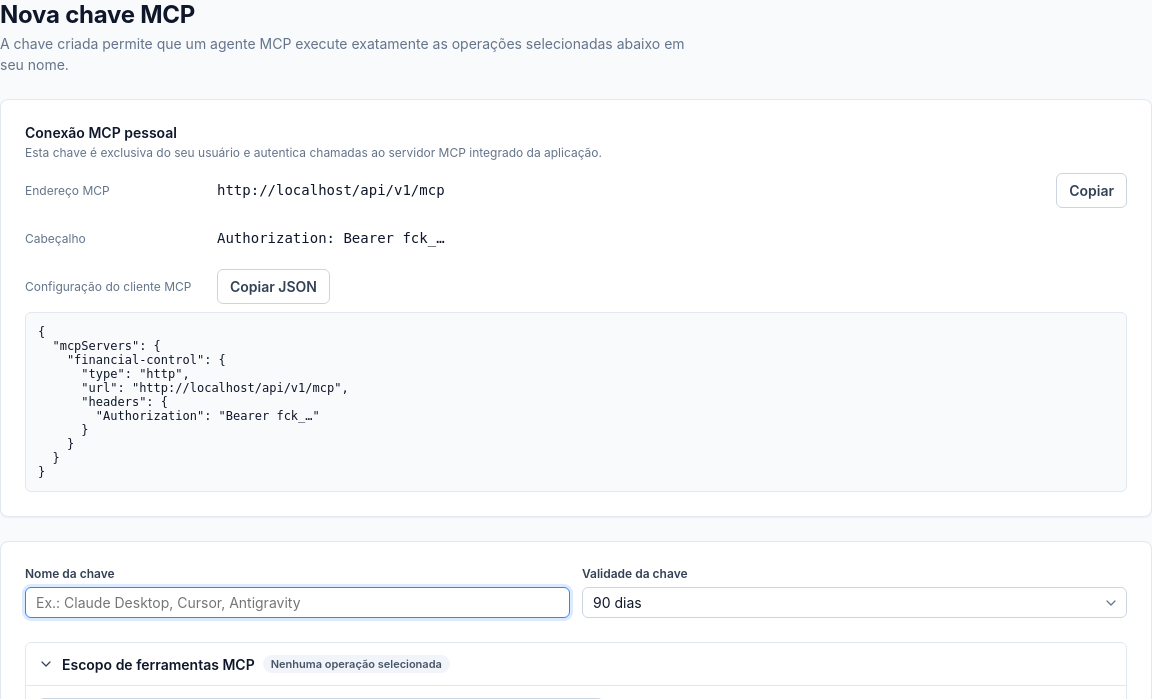
Test case: agentic mcp settings › creates a personal MCP key with scoped permissions and displays the secret once
Type "Cursor Local" into the field labelled "Nome da chave" at (298, 602), box [25,587,570,618]
(page scrolled)
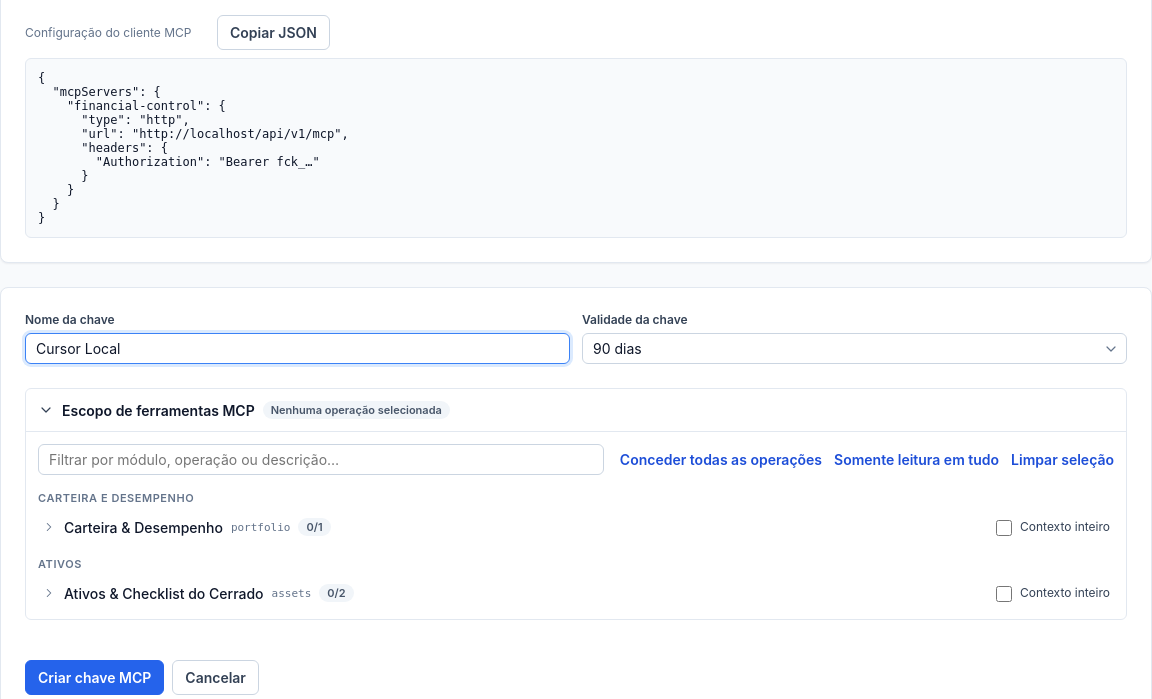
// Submitting without scope shows validation error
Click the button "Criar chave MCP" at (95, 678), box [25,660,164,695]
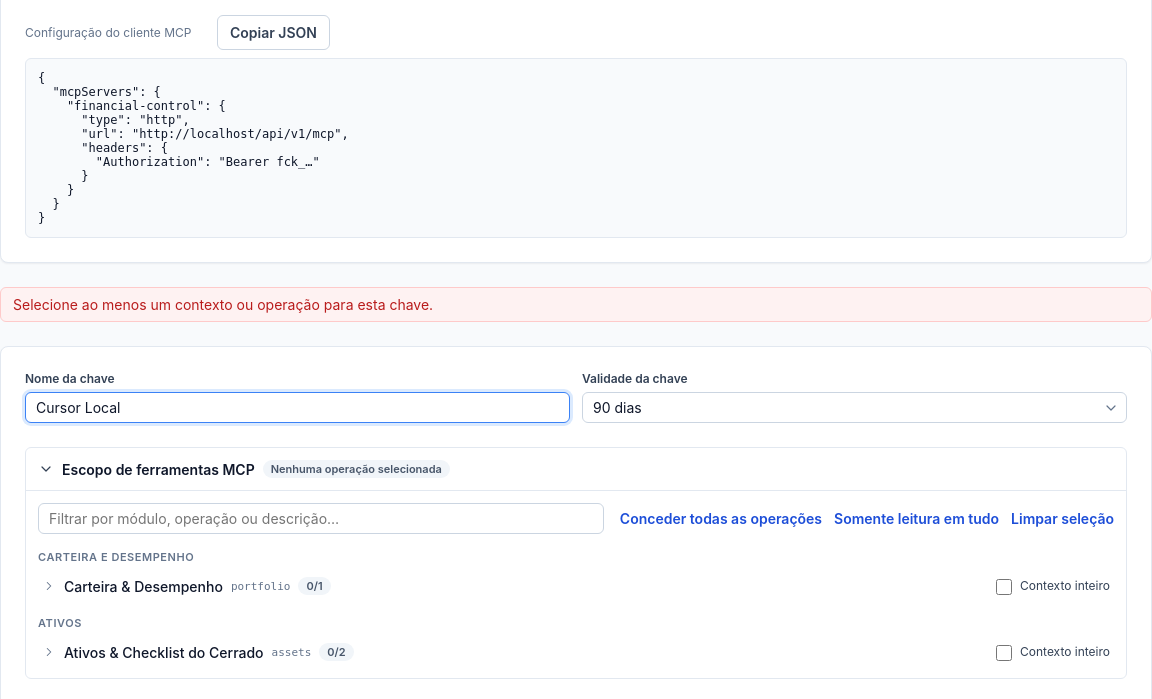
Expected: the text "Selecione ao menos um contexto ou operação para esta chave." is shown, [13,296,433,313]
// Use "Somente leitura em tudo" shortcut (selects portfolio.consolidated + assets.list)
Click the button "Somente leitura em tudo" at (916, 518), box [834,510,999,527]
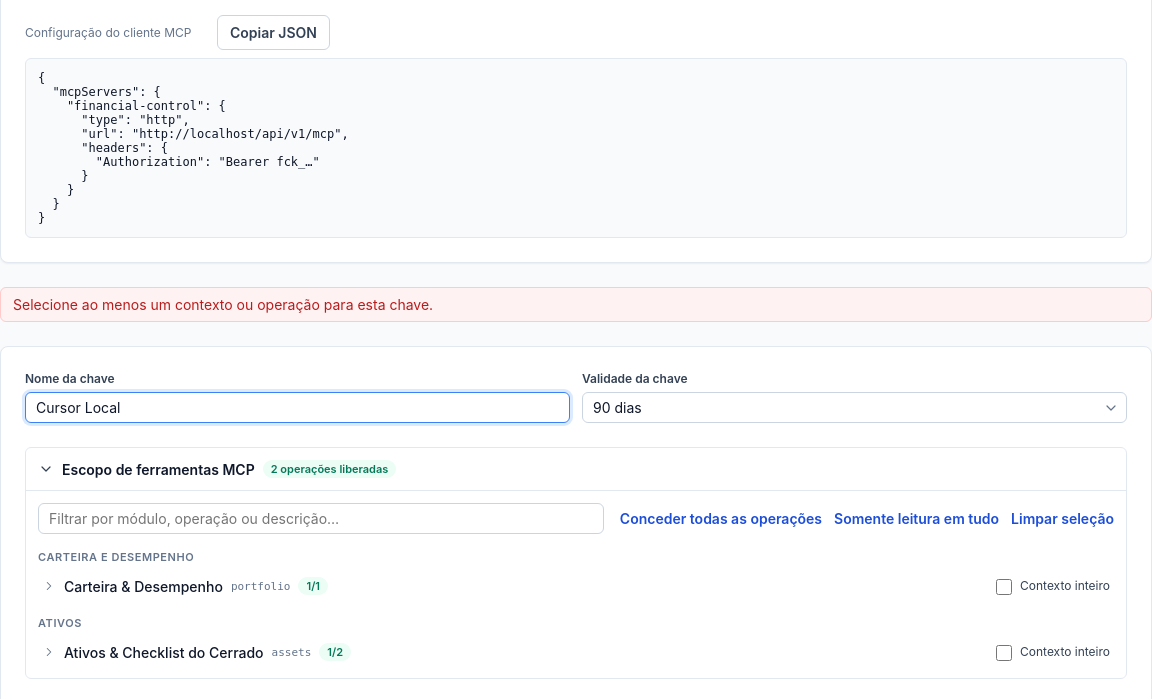
Expected: the text "2 operações liberadas" is shown, [263,460,396,478]
// Also check whole context for portfolio
Click the checkbox named "Conceder contexto inteiro portfolio" at (1004, 587), box [996,579,1012,595]
(page scrolled)
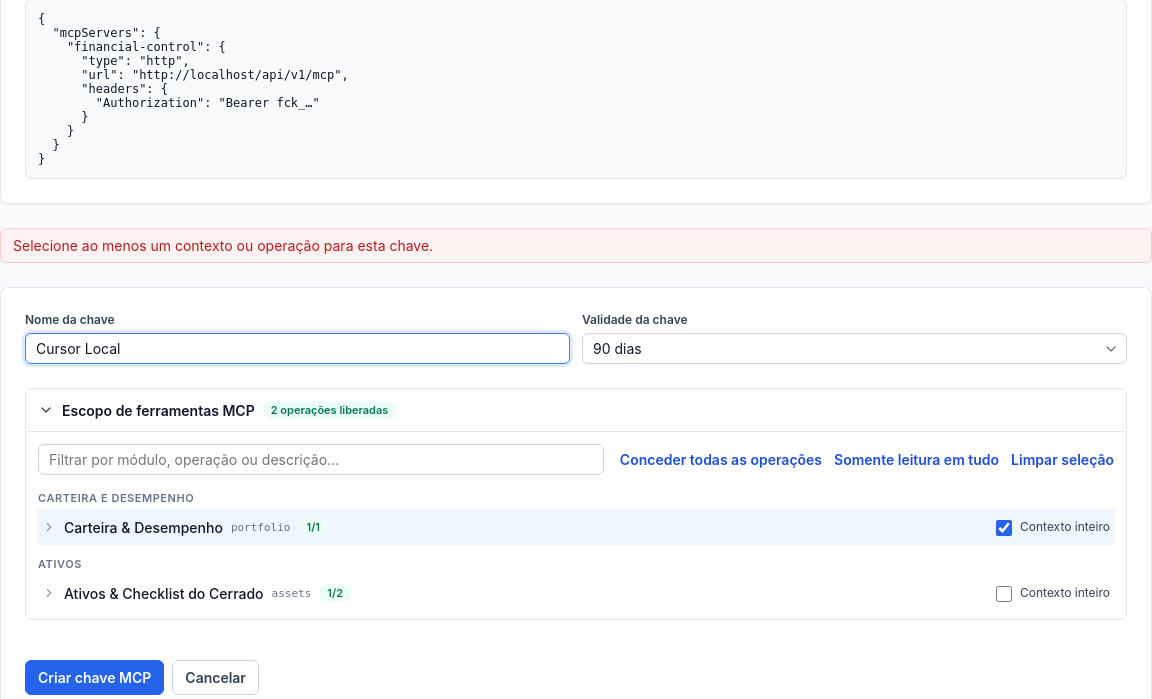
Click the button "Criar chave MCP" at (95, 678), box [25,660,164,695]
(page scrolled)
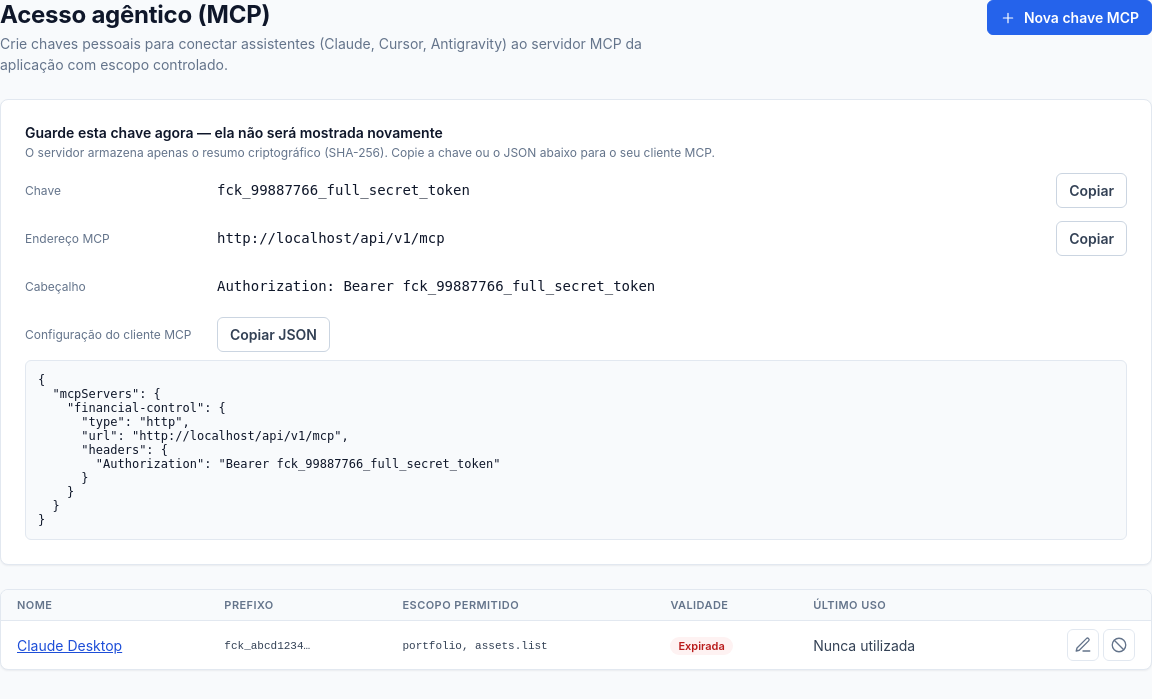
Expected: the text "Guarde esta chave agora — ela não será mostrada novamente" is shown, [25,124,443,141]
Expected: the text "fck_99887766_full_secret_token" is shown, [217,182,470,198]
